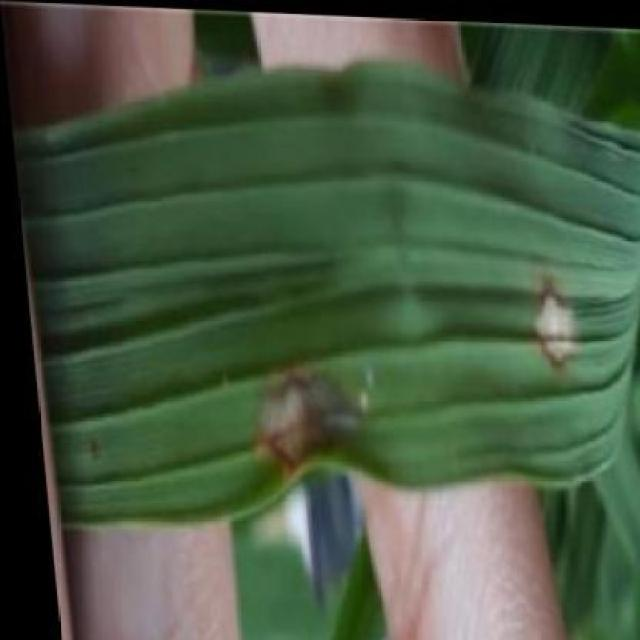Bacterial_Leaf_Blight: (219, 310, 387, 472), (488, 240, 608, 382)
